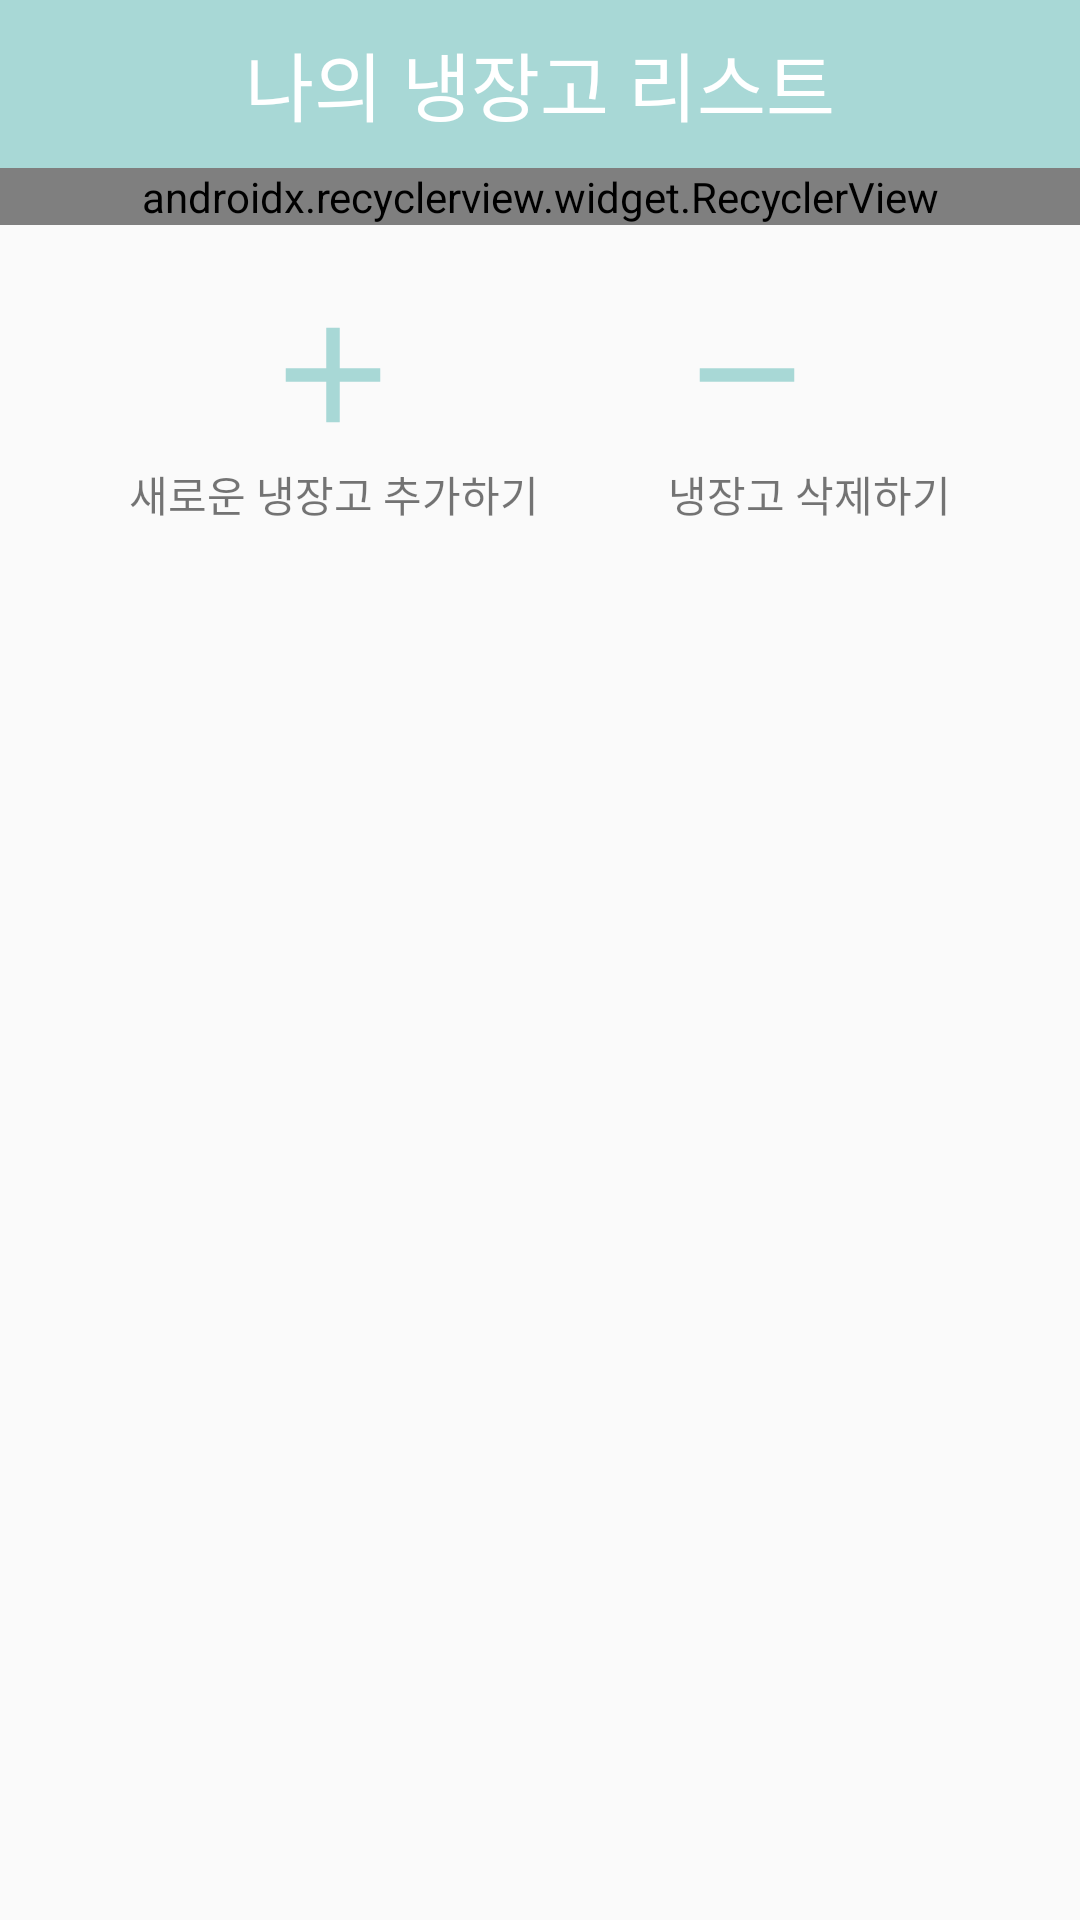

Icon click points for this 1080*1920 phone screenshot, format (x,y):
add: (333,375)
